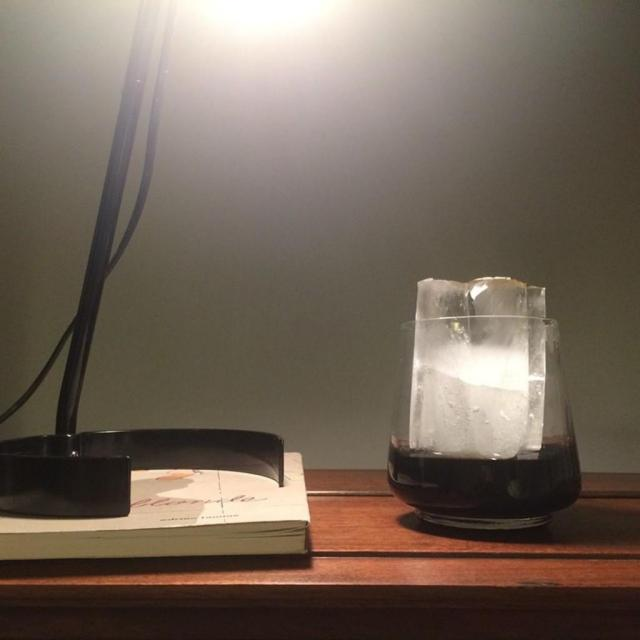table: (0, 420, 639, 639)
